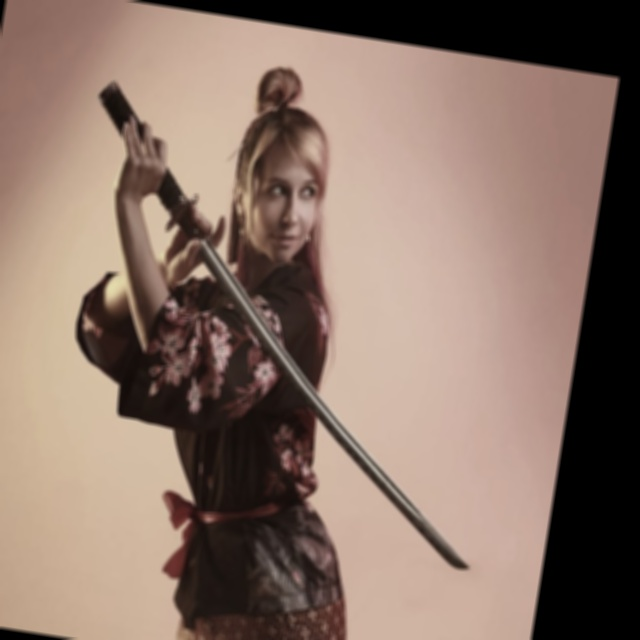Sharp-Object: (24, 81, 545, 594)
